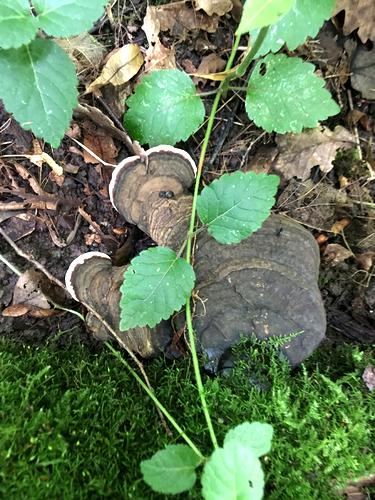Ganoderma - Fruit Body: (201, 214, 330, 378), (62, 250, 157, 351), (108, 145, 208, 235)
